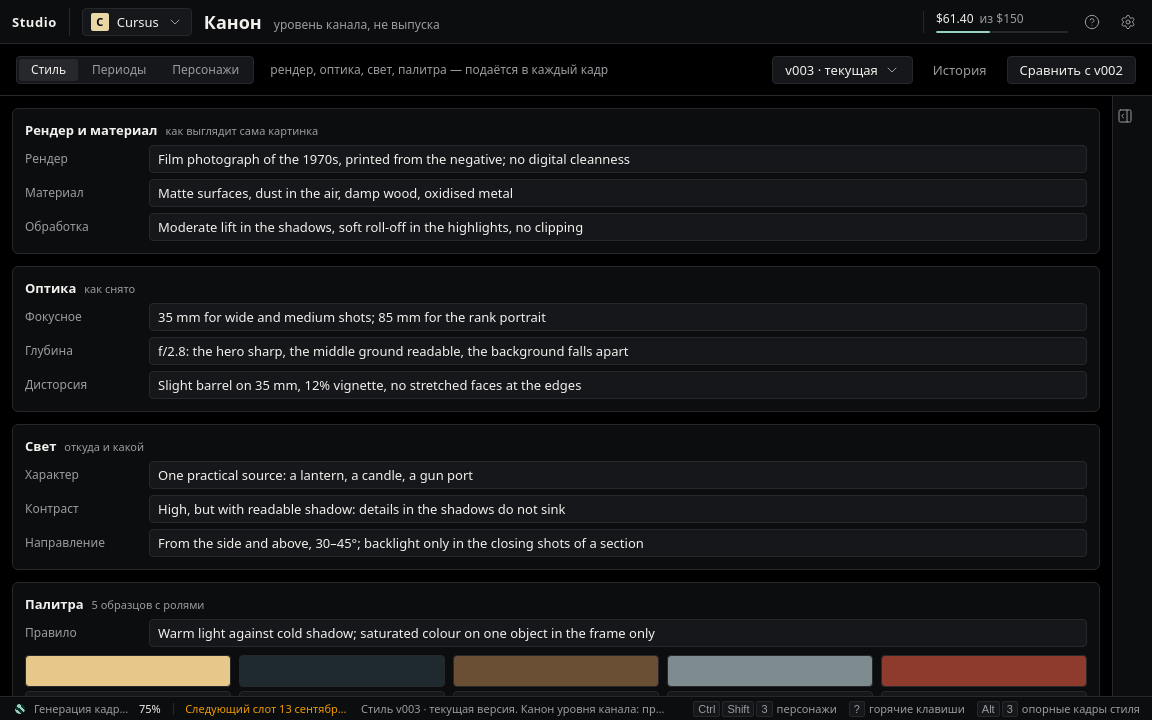
Scenario: слой «Стиль» › старая версия — только чтение; «Создать v004 из v002» начинает черновик из неё
Click the button "v003 · текущая" at {"x": 842, "y": 70}, box [772,56,913,84]
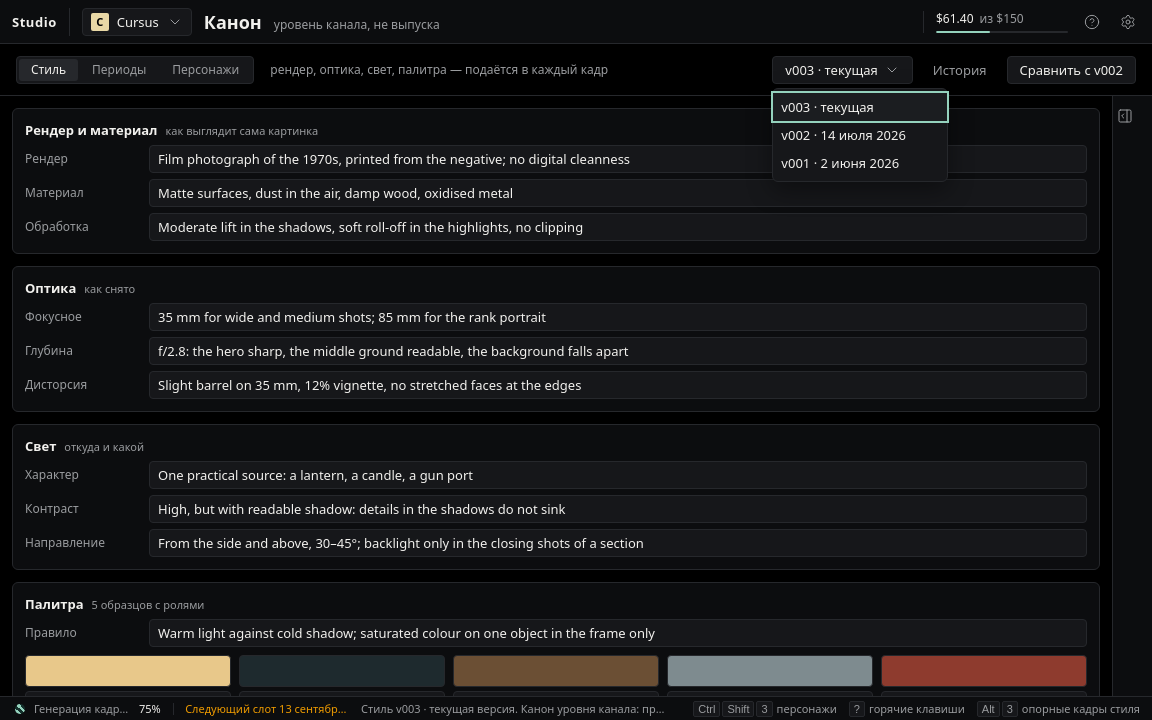
Click the menu item "v002 · 14 июля 2026" at {"x": 860, "y": 134}, box [773,120,947,148]
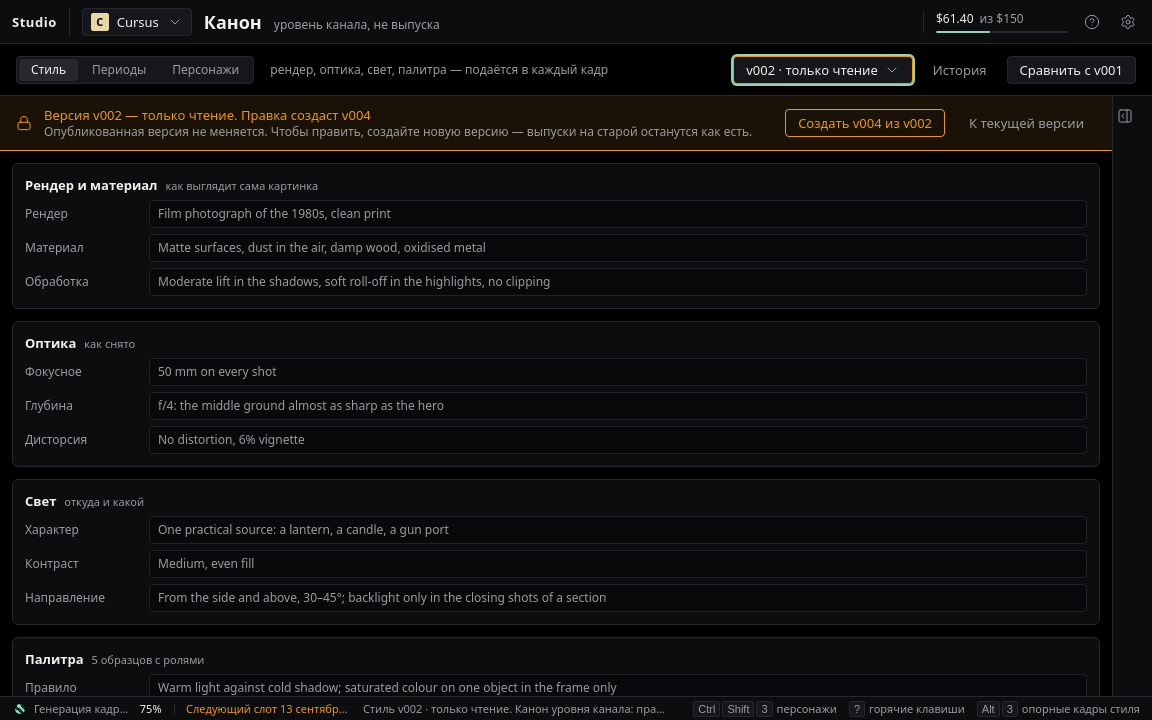
Result: the element "только чтение" shows "Версия v002 — только чтение" at [44,106,371,124]
Result: the text named "Рендер и материал: Рендер" reads "Film photograph of the 1980s, clean print" at [158,205,391,222]
Result: no fields are shown
Click the button "Создать v004 из v002" at {"x": 865, "y": 123}, box [785,109,945,137]
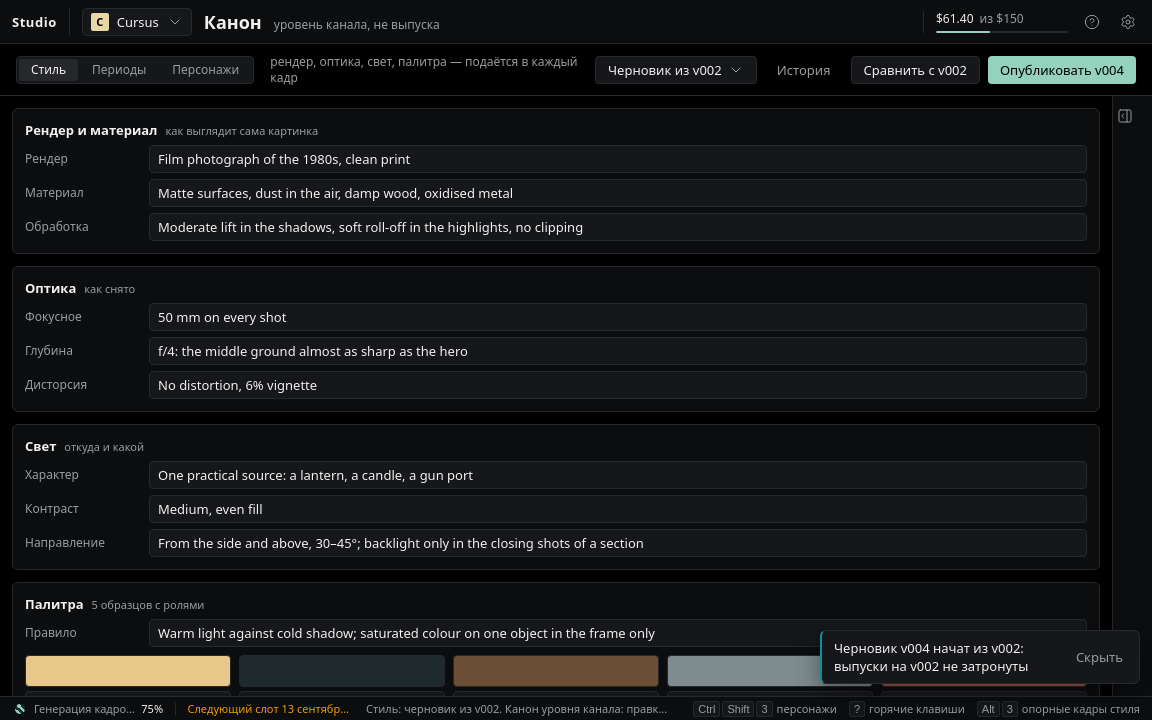
Result: the button "только чтение" is gone
Result: the button "Черновик из v002" is shown at [595,56,757,84]
Result: the text box named "Рендер и материал: Рендер" holds "Film photograph of the 1980s, clean print" at [149,145,1087,173]
